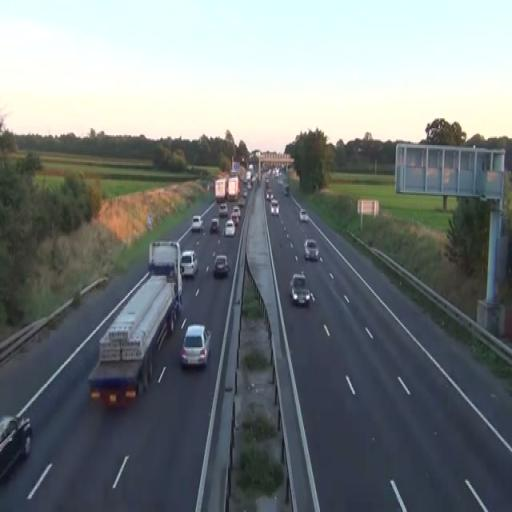Car: (0, 414, 33, 483), (179, 323, 212, 370), (288, 272, 311, 306), (180, 250, 198, 278), (213, 253, 230, 277), (304, 239, 318, 262), (231, 205, 241, 227), (224, 220, 236, 238), (192, 215, 204, 233), (210, 218, 220, 234), (218, 203, 228, 218)
Truck: (88, 270, 177, 410), (148, 240, 184, 314)
